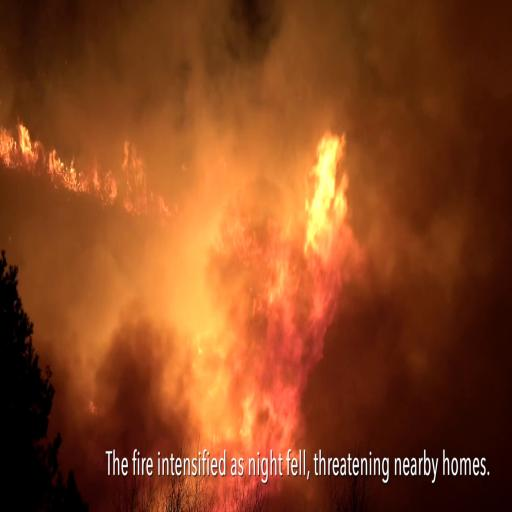fire: (188, 155, 362, 433), (291, 126, 363, 251), (66, 139, 154, 213), (0, 115, 61, 176)
